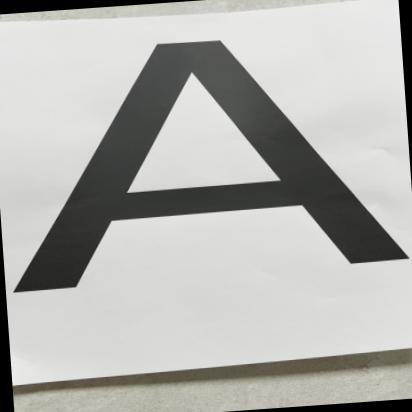seat: (5, 14, 412, 300)
